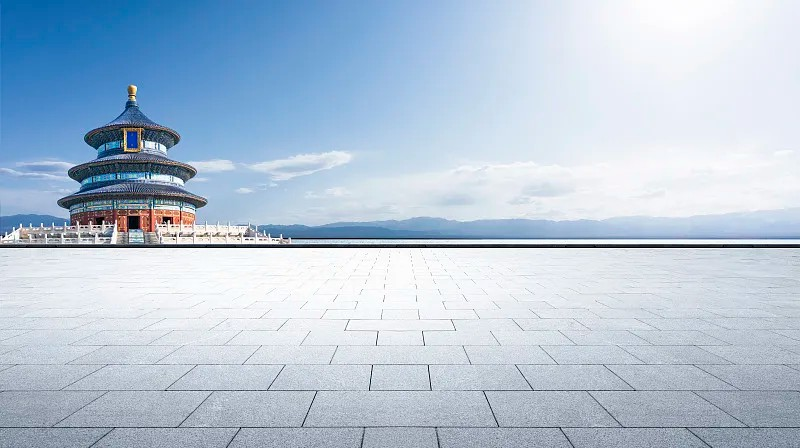Heaven: (56, 82, 208, 230)
